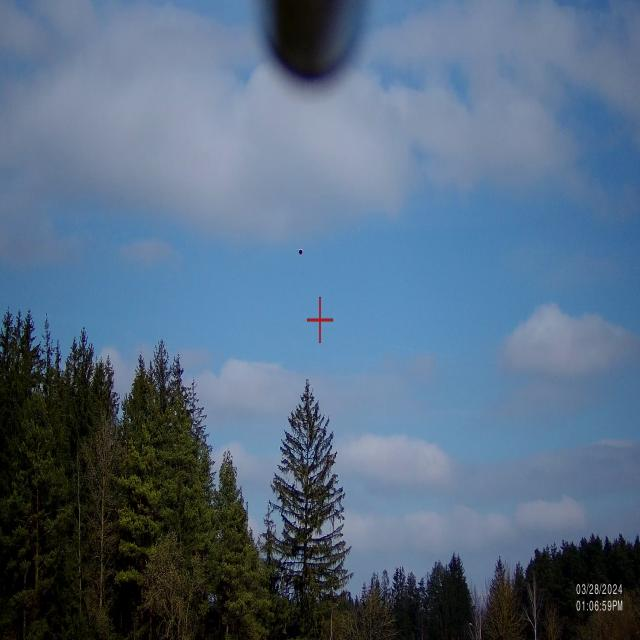entire: (296, 247, 306, 257)
